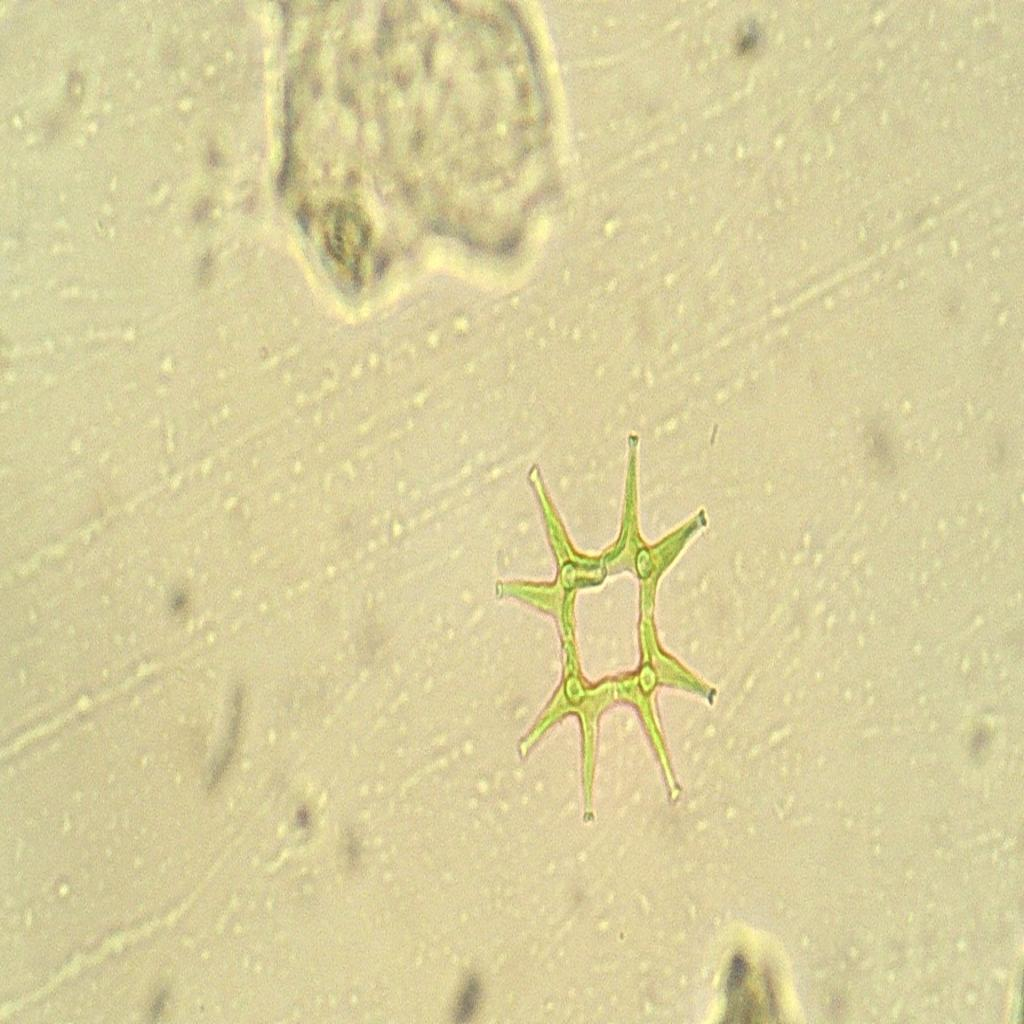Pediastrum_10: (484, 409, 748, 832)
